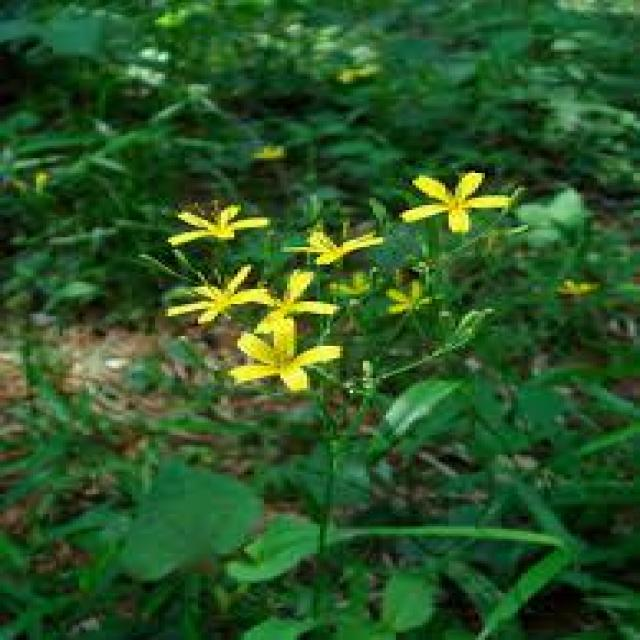organic waste: (396, 153, 498, 245), (224, 326, 334, 405), (248, 273, 356, 347), (144, 264, 266, 322), (170, 198, 275, 255), (288, 217, 388, 272), (384, 277, 434, 314)
